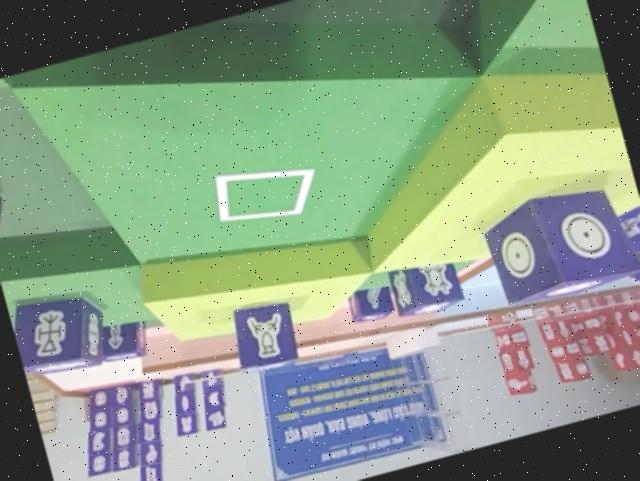R2 Real Blue: (478, 173, 640, 312), (7, 283, 117, 383), (225, 293, 305, 376), (385, 252, 466, 322), (90, 313, 153, 365), (0, 123, 21, 277), (343, 280, 398, 326)
